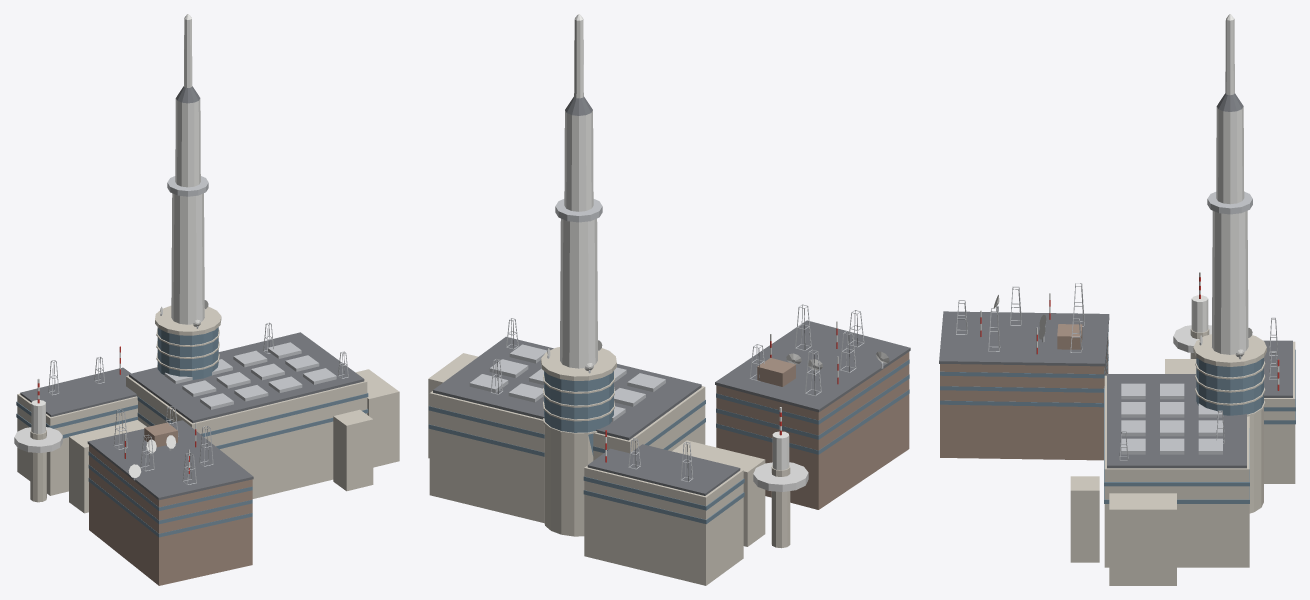
File: nouveau-lieu_v002.glb
3 views of the same model, side by side, from view 1: azimuth 30°, elevation 25°; view 2: azimuth 150°, elevation 25°; view 3: azimuth 270°, elevation 25° (orthographic). The views are drawn at different scales.
Visible parts, largest first — view 1: LIEU_nouveau-lieu_v001.002; view 2: LIEU_nouveau-lieu_v001.002; view 3: LIEU_nouveau-lieu_v001.002.
Part boxes in pixels (<box>): LIEU_nouveau-lieu_v001.002: <box>14,14,399,585</box>; LIEU_nouveau-lieu_v001.002: <box>428,14,910,585</box>; LIEU_nouveau-lieu_v001.002: <box>939,14,1295,585</box>.
Bounding box in the file's own units: 89.28 × 111 × 73.85.
